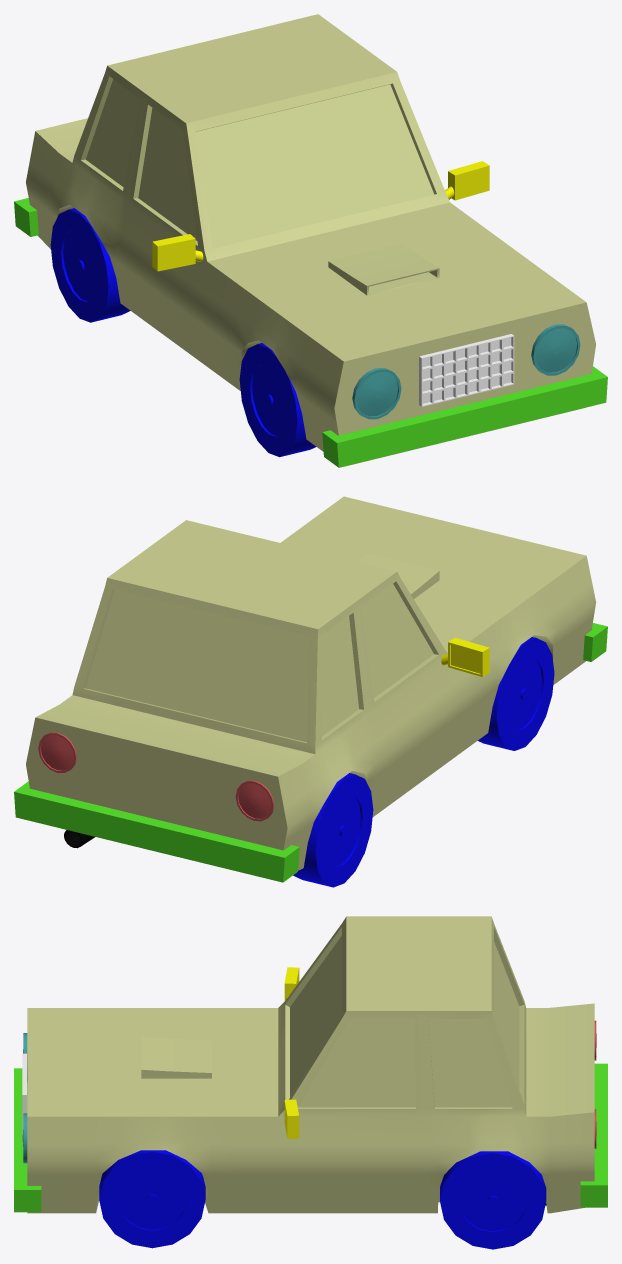
The model's file is Carro1Colorir.fbx.
The picture shows the model from 3 angles, top to bottom: view 1: azimuth 30°, elevation 25°; view 2: azimuth 150°, elevation 25°; view 3: azimuth 270°, elevation 25°; orthographic projection. The views are drawn at different scales.
Visible parts, largest first — view 1: Chassi, ParaChohesFrente, RodaTrasDir, RodaFrenteDir, Grelha, FarolFrenteEsq, FarolFrenteDir, EspelhoDir, EspelhoEsq, ParaChohesTras; view 2: Chassi, ParaChohesTras, RodaTrasDir, RodaFrenteDir, EspelhoDir, FarolTrasEsq, FarolTrasDir, ParaChohesFrente; view 3: Chassi, RodaTrasEsq, RodaFrenteEsq, ParaChohesTras, ParaChohesFrente, EspelhoEsq.
Boxes of the visible parts, x1,y1,x2,y2 form: Chassi: (26,14,595,466); ParaChohesFrente: (322,366,607,467); RodaTrasDir: (50,208,130,322); RodaFrenteDir: (239,343,316,457); Grelha: (419,334,514,406); FarolFrenteEsq: (531,324,580,375); FarolFrenteDir: (352,368,401,419); EspelhoDir: (152,234,203,271); EspelhoEsq: (445,161,489,200); ParaChohesTras: (14,198,38,236); Chassi: (26,496,596,870); ParaChohesTras: (14,781,299,882); RodaTrasDir: (293,773,373,887); RodaFrenteDir: (478,637,554,750); EspelhoDir: (441,637,489,676); FarolTrasEsq: (38,732,76,772); FarolTrasDir: (235,780,274,821); ParaChohesFrente: (583,623,607,661); Chassi: (27,916,594,1213); RodaTrasEsq: (440,1151,546,1249); RodaFrenteEsq: (99,1150,205,1248); ParaChohesTras: (580,1063,607,1207); ParaChohesFrente: (14,1068,41,1212); EspelhoEsq: (284,1099,299,1138).
Bounding box in the file's own units: 6.62 × 4.71 × 11.17.
